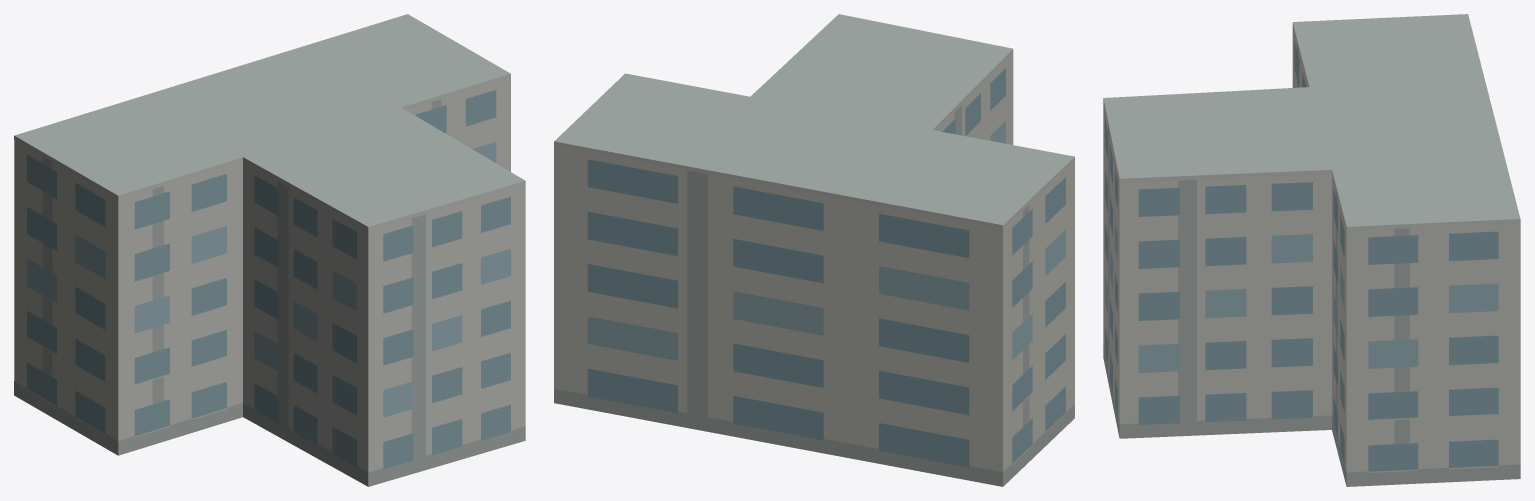
File: residential-fdaac2ee-015b-41a9-9f23-715a20b3b48e.glb
The picture shows the model from 3 angles, left to right: view 1: azimuth 30°, elevation 25°; view 2: azimuth 150°, elevation 25°; view 3: azimuth 270°, elevation 25°; orthographic projection.
Parts seen in each view (by area): view 1: residential-fdaac2ee-015b-41a9-9f23-715a20b3b48e.tmp; view 2: residential-fdaac2ee-015b-41a9-9f23-715a20b3b48e.tmp; view 3: residential-fdaac2ee-015b-41a9-9f23-715a20b3b48e.tmp.
Boxes of the visible parts, box(x1,y1,x2,y2) form: residential-fdaac2ee-015b-41a9-9f23-715a20b3b48e.tmp: box(14, 14, 525, 486); residential-fdaac2ee-015b-41a9-9f23-715a20b3b48e.tmp: box(554, 14, 1074, 486); residential-fdaac2ee-015b-41a9-9f23-715a20b3b48e.tmp: box(1103, 14, 1520, 486).
Bounding box in the file's own units: 26.78 × 15.25 × 22.18.
